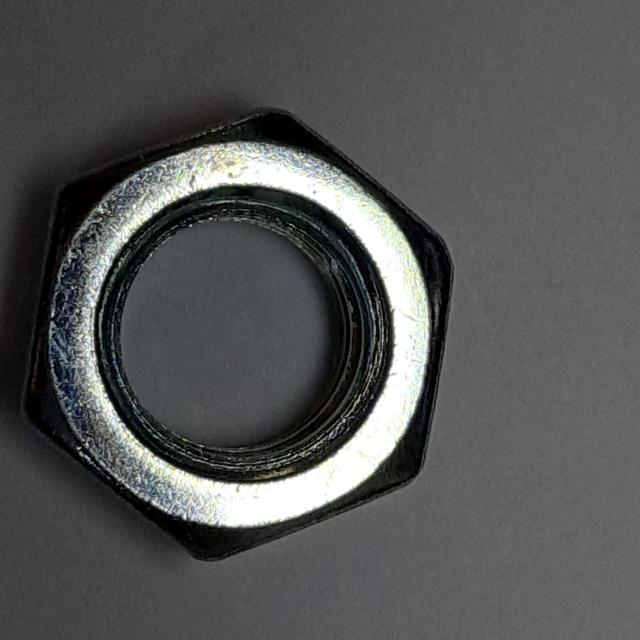Excellent: (8, 90, 464, 580)
